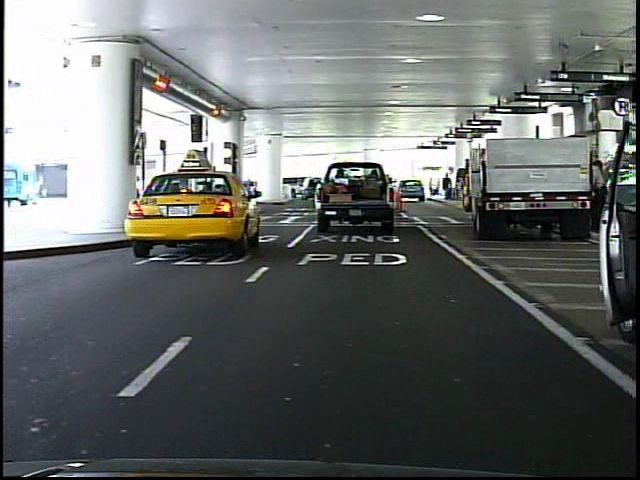person: (198, 167, 218, 214)
